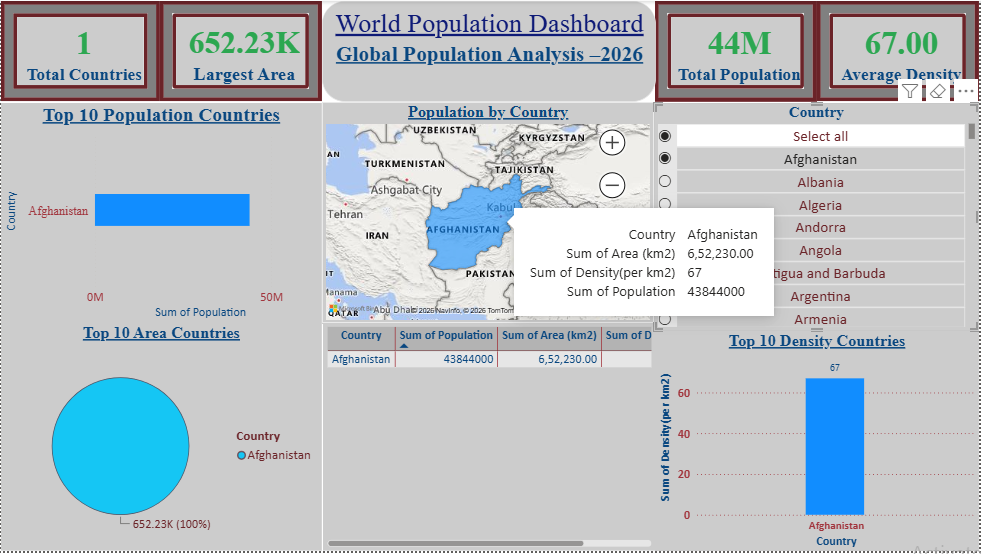

This screenshot's page, from the dashboard's own definition file:
{"tool":"powerbi","page":{"name":" Page 1","canvas":[1280,720],"ordinal":0},"visuals":[{"type":"cardVisual","fields":{"Data":["ISO Alpha1 (Sheet1).Total Countries"]},"box":[0,0,208.3,131],"z":0},{"type":"cardVisual","fields":{"Data":["ISO Alpha1 (Sheet1).Largest Area"]},"box":[208.3,0,211.7,131],"z":1000},{"type":"cardVisual","fields":{"Data":["ISO Alpha1 (Sheet1).Total Population"]},"box":[856.7,0,211.7,131.7],"z":2000},{"type":"cardVisual","fields":{"Data":["ISO Alpha1 (Sheet1).Average Density"]},"box":[1068.3,0,211.7,131],"z":3000},{"type":"clusteredBarChart","title":"Top 10 Population  Countries","fields":{"Category":["ISO Alpha1 (Sheet1).Country"],"Y":["Sum(ISO Alpha1 (Sheet1).Population)"]},"box":[0,133.3,420,288.3],"z":4000},{"type":"filledMap","title":"Population by Country","fields":{"Category":["ISO Alpha1 (Sheet1).Country"]},"box":[420,131.7,435,290],"z":5000},{"type":"clusteredColumnChart","title":"Top 10 Density Countries","fields":{"Y":["Sum(ISO Alpha1 (Sheet1).Density(per km2))"],"Category":["ISO Alpha1 (Sheet1).Country"]},"box":[855.7,431.4,424.3,288.6],"z":6000},{"type":"pieChart","title":"Top 10 Area Countries","fields":{"Category":["ISO Alpha1 (Sheet1).Country"],"Y":["Sum(ISO Alpha1 (Sheet1).Area (km2))"]},"box":[0,421.7,420,298.3],"z":7000},{"type":"textbox","title":"World Population Dashboard","box":[420,0,436.7,131.7],"z":8000},{"type":"tableEx","fields":{"Values":["ISO Alpha1 (Sheet1).Country","Sum(ISO Alpha1 (Sheet1).Population)","Sum(ISO Alpha1 (Sheet1).Area (km2))","Sum(ISO Alpha1 (Sheet1).Density(per km2))"]},"box":[421.7,421.7,435,298.3],"z":9000},{"type":"listSlicer","fields":{"Values":["ISO Alpha1 (Sheet1).Country"]},"box":[855,133.3,425,298.3],"z":10000}]}

Visuals, with their boxes in screenshot pixels (x1, y1, x2, y2), scaled from the page's 1280x720 canvas onto the 981x554 screenshot:
cardVisual - ISO Alpha1 (Sheet1).Total Countries: bbox(0, 0, 160, 101)
cardVisual - ISO Alpha1 (Sheet1).Largest Area: bbox(160, 0, 322, 101)
cardVisual - ISO Alpha1 (Sheet1).Total Population: bbox(657, 0, 819, 101)
cardVisual - ISO Alpha1 (Sheet1).Average Density: bbox(819, 0, 980, 101)
"Top 10 Population  Countries" clusteredBarChart: bbox(0, 103, 322, 324)
"Population by Country" filledMap: bbox(322, 101, 655, 324)
"Top 10 Density Countries" clusteredColumnChart: bbox(656, 332, 980, 553)
"Top 10 Area Countries" pieChart: bbox(0, 324, 322, 553)
"World Population Dashboard" textbox: bbox(322, 0, 657, 101)
tableEx - ISO Alpha1 (Sheet1).Country x Sum(ISO Alpha1 (Sheet1).Population): bbox(323, 324, 657, 553)
listSlicer - ISO Alpha1 (Sheet1).Country: bbox(655, 103, 980, 332)
